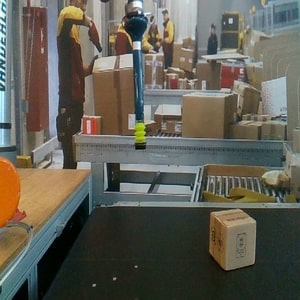box: (208, 207, 257, 271)
